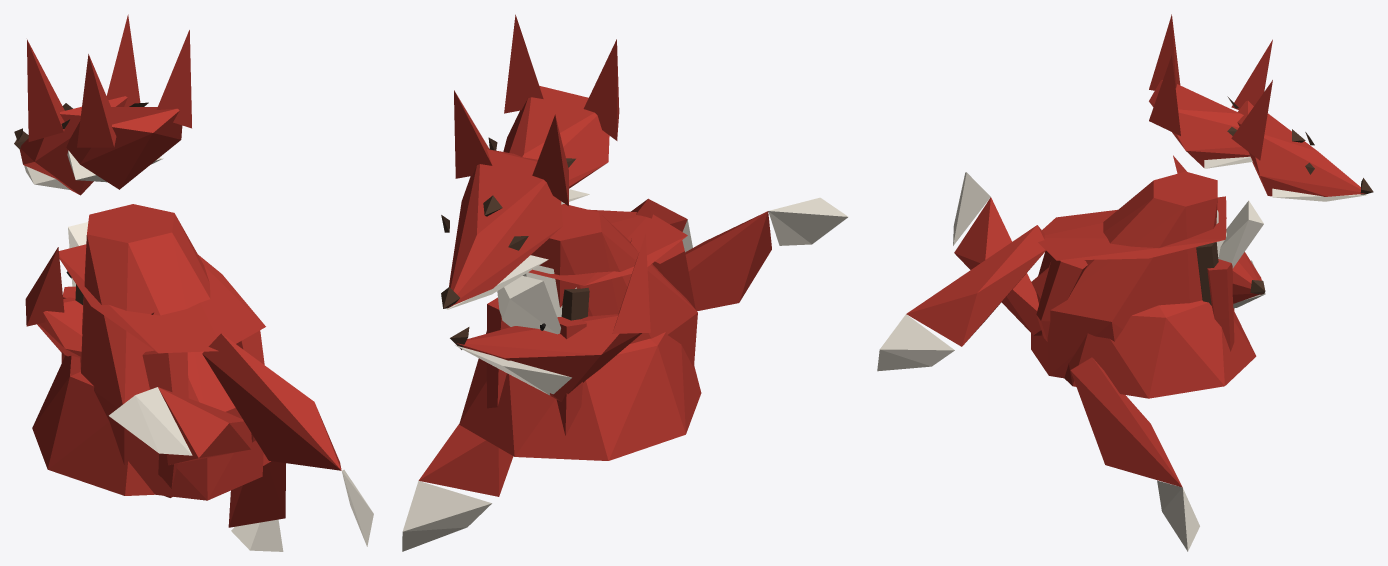
File: pet_chiyo_fox.glb
The picture shows the model from 3 angles, left to right: view 1: azimuth 30°, elevation 25°; view 2: azimuth 150°, elevation 25°; view 3: azimuth 270°, elevation 25°; orthographic projection. The views are drawn at different scales.
Visible parts, largest first — view 1: body.001, head.001, tail, body.002, body, head, tail.001, tail.002, head.002, leg_br, leg_bl; view 2: body.002, head, head.002, head.001, body.001, tail.001, tail.002, body, leg_br, leg_fl, leg_fr, tail (+1 smaller); view 3: body.001, body.002, tail, head, tail.002, head.001, body, tail.001, leg_bl, leg_fl, head.002, leg_fl.001.
Part boxes in pixels (<box>): body.001: <box>80,204,263,500</box>; head.001: <box>61,30,191,189</box>; tail: <box>202,333,373,546</box>; body.002: <box>32,355,270,495</box>; body: <box>59,222,265,353</box>; head: <box>14,14,140,195</box>; tail.001: <box>109,387,251,465</box>; tail.002: <box>228,461,285,551</box>; head.002: <box>25,247,153,357</box>; leg_br: <box>142,350,188,497</box>; leg_bl: <box>236,330,264,442</box>; body.002: <box>459,331,701,460</box>; head: <box>441,90,568,309</box>; head.002: <box>450,233,650,401</box>; head.001: <box>483,14,619,216</box>; body.001: <box>523,204,697,367</box>; tail.001: <box>685,197,848,311</box>; tail.002: <box>402,424,513,551</box>; body: <box>497,209,687,334</box>; leg_br: <box>652,240,695,309</box>; leg_fl: <box>486,297,510,408</box>; leg_fr: <box>556,317,586,435</box>; tail: <box>630,198,692,252</box>; body.001: <box>1031,171,1226,378</box>; body.002: <box>1064,300,1256,398</box>; tail: <box>877,225,1045,371</box>; head: <box>1231,39,1373,201</box>; tail.002: <box>1070,357,1199,551</box>; head.001: <box>1149,14,1305,168</box>; body: <box>1038,196,1263,268</box>; tail.001: <box>953,172,1041,335</box>; leg_bl: <box>1036,257,1087,341</box>; leg_fl: <box>1207,259,1234,351</box>; head.002: <box>1106,155,1265,308</box>; leg_fl.001: <box>1196,242,1218,305</box>.
Size of the model in its own units: 0.3825 by 0.654 by 0.6454.
